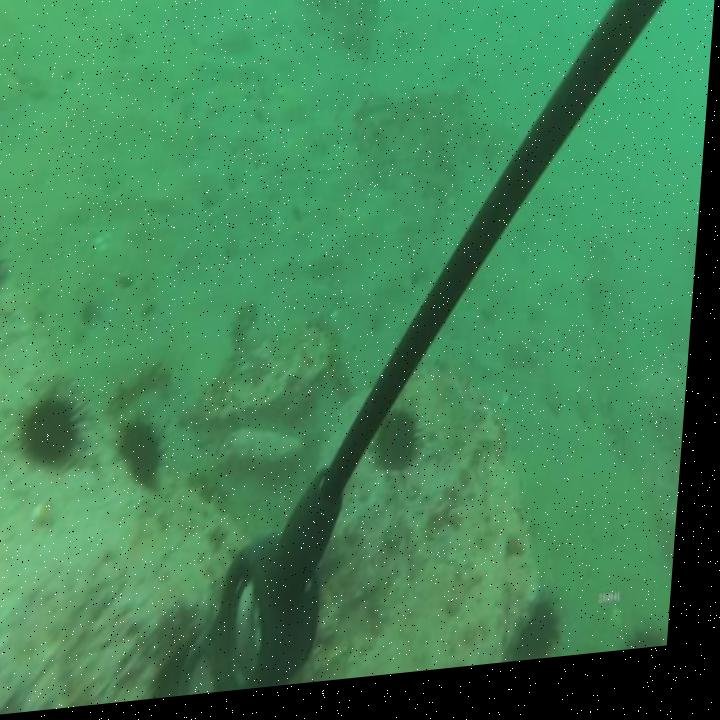echinus: (20, 367, 105, 471), (119, 404, 182, 500), (510, 593, 581, 675), (380, 414, 438, 489)
